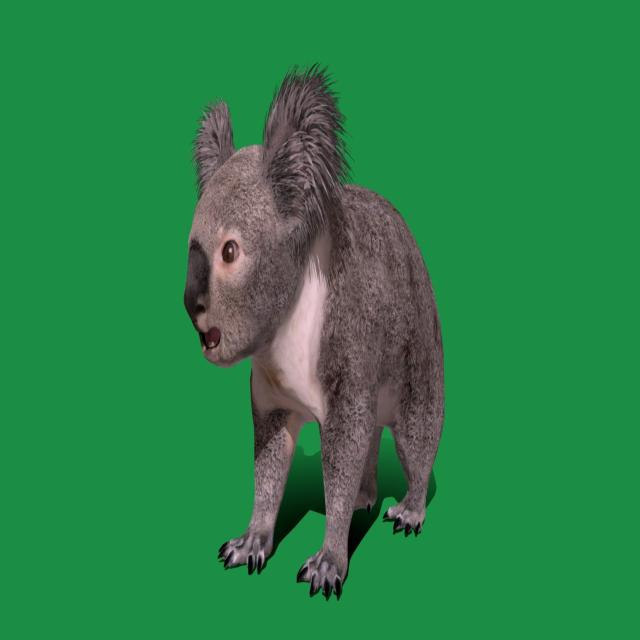Koala: (182, 71, 448, 587)
